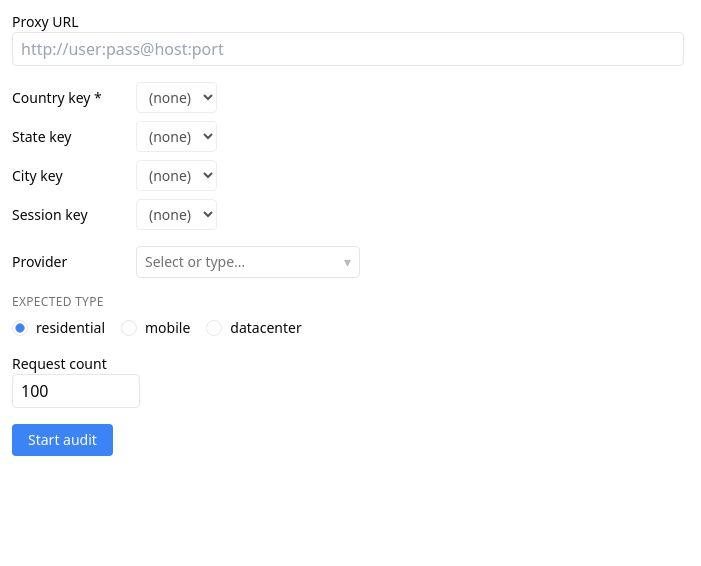
Test case: AuditSetupForm — session warning banner › disappears when the user picks the suggested key
Type "http://hardcore_oparin6667-zone-residential-countryCode-RO-sessionId@eu-gw.databay.co:8888" into the field labelled "Proxy URL" at (348, 49), box [12, 32, 684, 66]
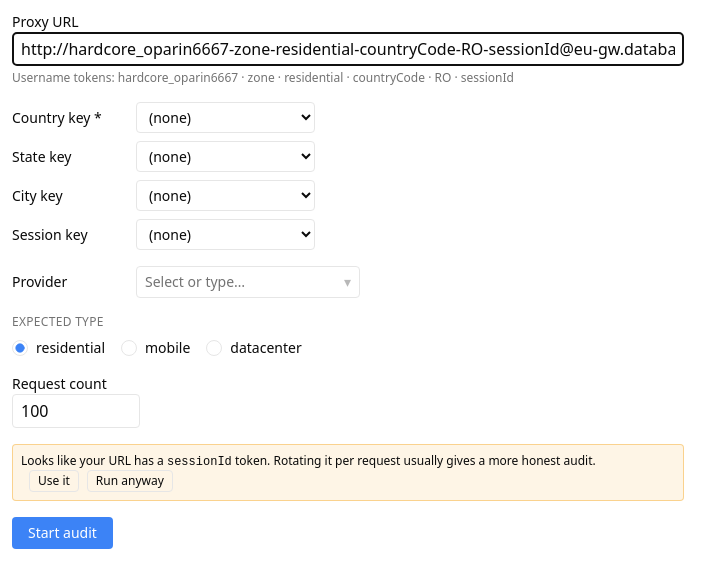
expect the element with test id "session-warning" is shown: met, box [12, 444, 684, 501]
Click the button "Use it" at (54, 481), box [29, 470, 79, 492]
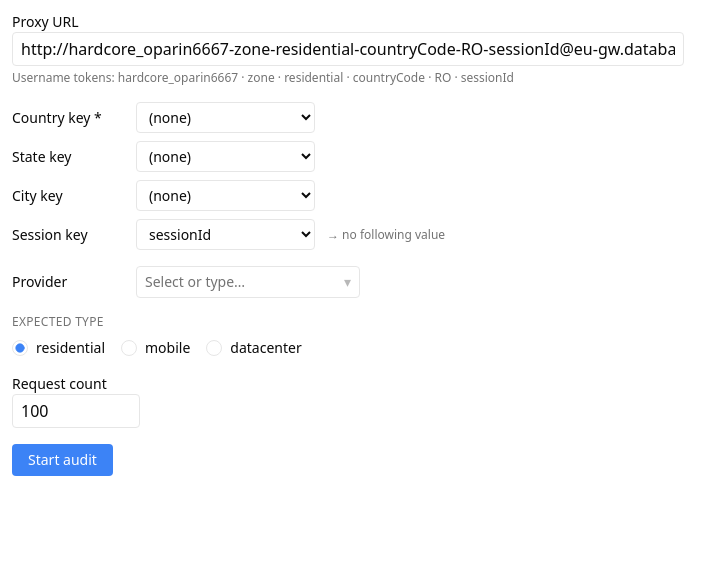
expect the element with test id "session-warning" is gone: met
expect the dropdown labelled "Session key" shows "sessionId": met, box [136, 219, 315, 250]
